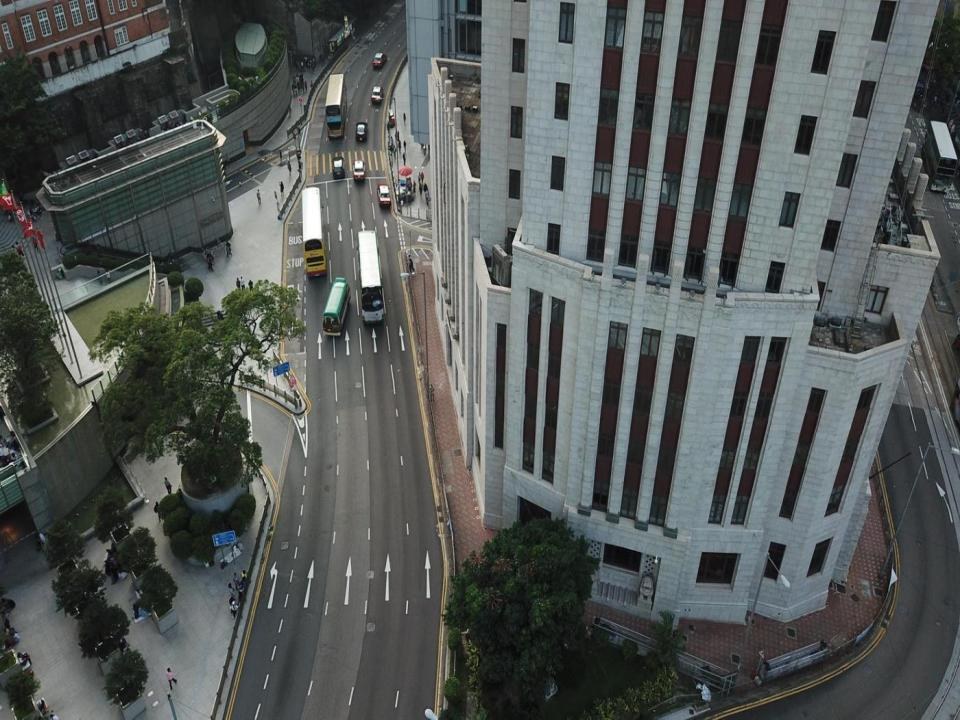bus: (920, 120, 957, 192), (356, 230, 384, 322), (301, 186, 326, 278), (322, 277, 350, 336), (324, 73, 347, 139)
car: (331, 156, 345, 179), (352, 159, 365, 183), (377, 184, 391, 206), (372, 51, 387, 69), (370, 85, 384, 103), (355, 122, 368, 141)
